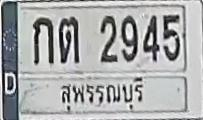2: (100, 16, 117, 63)
4: (143, 14, 159, 61)
5: (162, 14, 180, 61)
9: (120, 15, 138, 62)
A01: (32, 17, 54, 64)
A21: (58, 16, 79, 63)
SPB: (53, 75, 147, 112)
